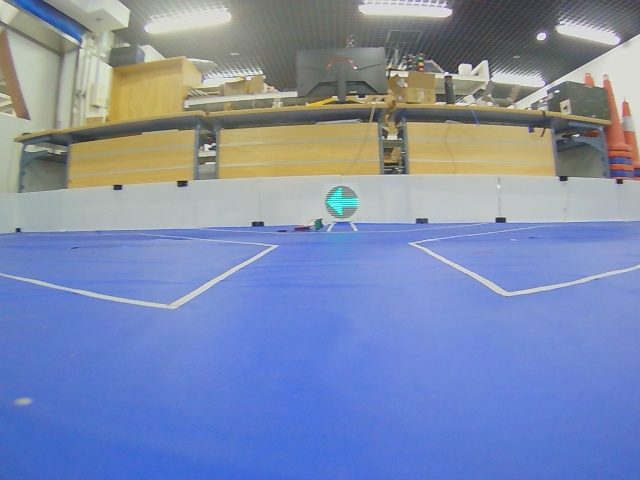left_green: (325, 186, 360, 219)
